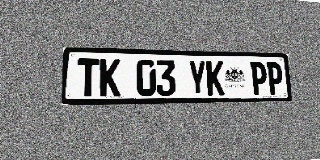0: (136, 59, 156, 96)
3: (156, 60, 175, 96)
K: (99, 59, 120, 96), (206, 61, 224, 95)
P: (250, 62, 268, 95), (266, 62, 284, 95)
T: (77, 58, 99, 97)
Y: (188, 60, 207, 95)
